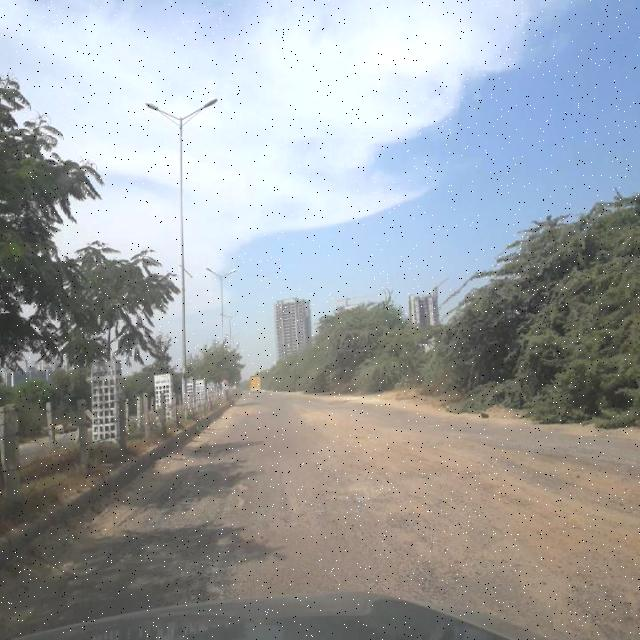D40: (115, 446, 252, 595), (398, 505, 518, 600), (328, 453, 404, 507)
